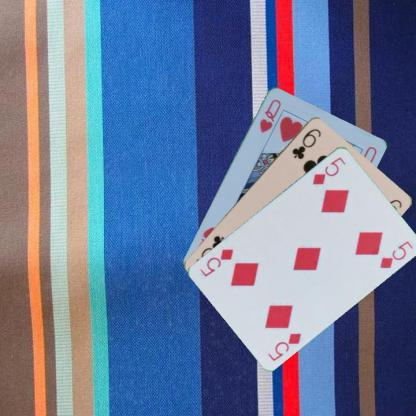5d: (310, 154, 347, 186), (266, 330, 303, 362)
6c: (289, 126, 322, 160)
Qh: (256, 96, 282, 134)
